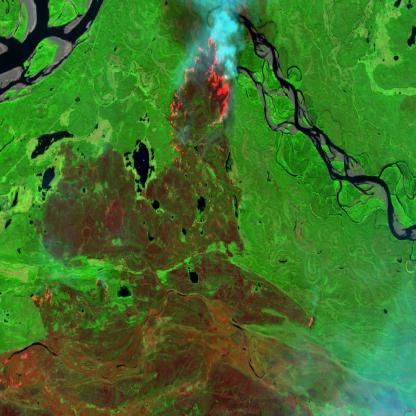fire: (165, 24, 238, 162), (25, 280, 59, 315), (92, 273, 114, 298), (302, 310, 320, 334)
